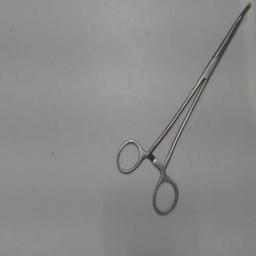Lahey Forceps: (112, 1, 254, 225)
